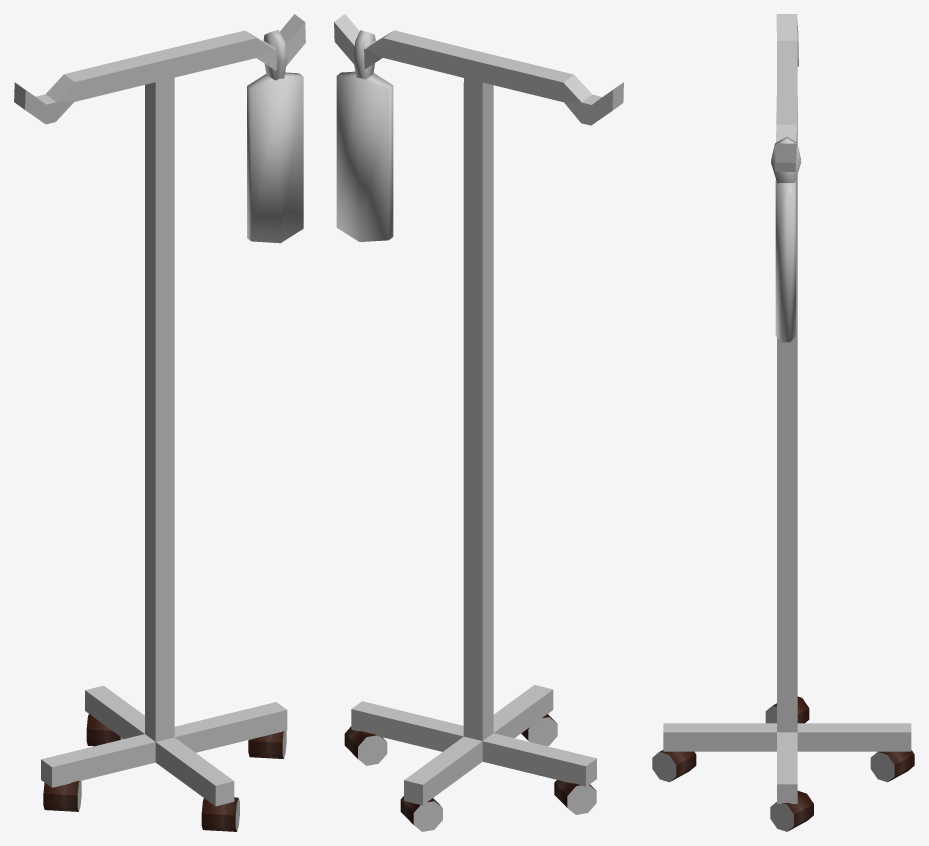
Rendered from IVStand.obj.
The picture shows the model from 3 angles, left to right: view 1: azimuth 30°, elevation 25°; view 2: azimuth 150°, elevation 25°; view 3: azimuth 270°, elevation 25°; orthographic projection. The views are drawn at different scales.
Parts seen in each view (by area): view 1: IV_IV_Stand, IV_Bag_Cube, Wheel.002_Cylinder.001, Wheel.001_Cylinder.001, Wheel.004_Cylinder.001, Wheel_Cylinder.001; view 2: IV_IV_Stand, IV_Bag_Cube, Wheel.004_Cylinder.001, Wheel.001_Cylinder.001, Wheel_Cylinder.001, Wheel.002_Cylinder.001; view 3: IV_IV_Stand, IV_Bag_Cube, Wheel.004_Cylinder.001, Wheel.002_Cylinder.001, Wheel_Cylinder.001, Wheel.001_Cylinder.001.
Part boxes in pixels (bbox=[...]): IV_IV_Stand: bbox=[14, 14, 305, 806]; IV_Bag_Cube: bbox=[247, 30, 303, 243]; Wheel.002_Cylinder.001: bbox=[201, 797, 239, 831]; Wheel.001_Cylinder.001: bbox=[43, 780, 81, 811]; Wheel.004_Cylinder.001: bbox=[248, 730, 286, 758]; Wheel_Cylinder.001: bbox=[86, 714, 123, 746]; IV_IV_Stand: bbox=[334, 14, 623, 805]; IV_Bag_Cube: bbox=[336, 30, 393, 241]; Wheel.004_Cylinder.001: bbox=[344, 726, 387, 765]; Wheel.001_Cylinder.001: bbox=[554, 780, 596, 814]; Wheel_Cylinder.001: bbox=[400, 796, 442, 831]; Wheel.002_Cylinder.001: bbox=[521, 714, 557, 746]; IV_IV_Stand: bbox=[663, 14, 911, 803]; IV_Bag_Cube: bbox=[771, 136, 801, 342]; Wheel.004_Cylinder.001: bbox=[770, 791, 813, 831]; Wheel.002_Cylinder.001: bbox=[652, 750, 696, 782]; Wheel_Cylinder.001: bbox=[870, 750, 914, 782]; Wheel.001_Cylinder.001: bbox=[765, 696, 809, 723].
Size of the model in its own units: 29.78 by 74.31 by 25.38.
